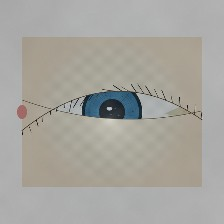pterygium_lesion: (160, 96, 201, 128)
